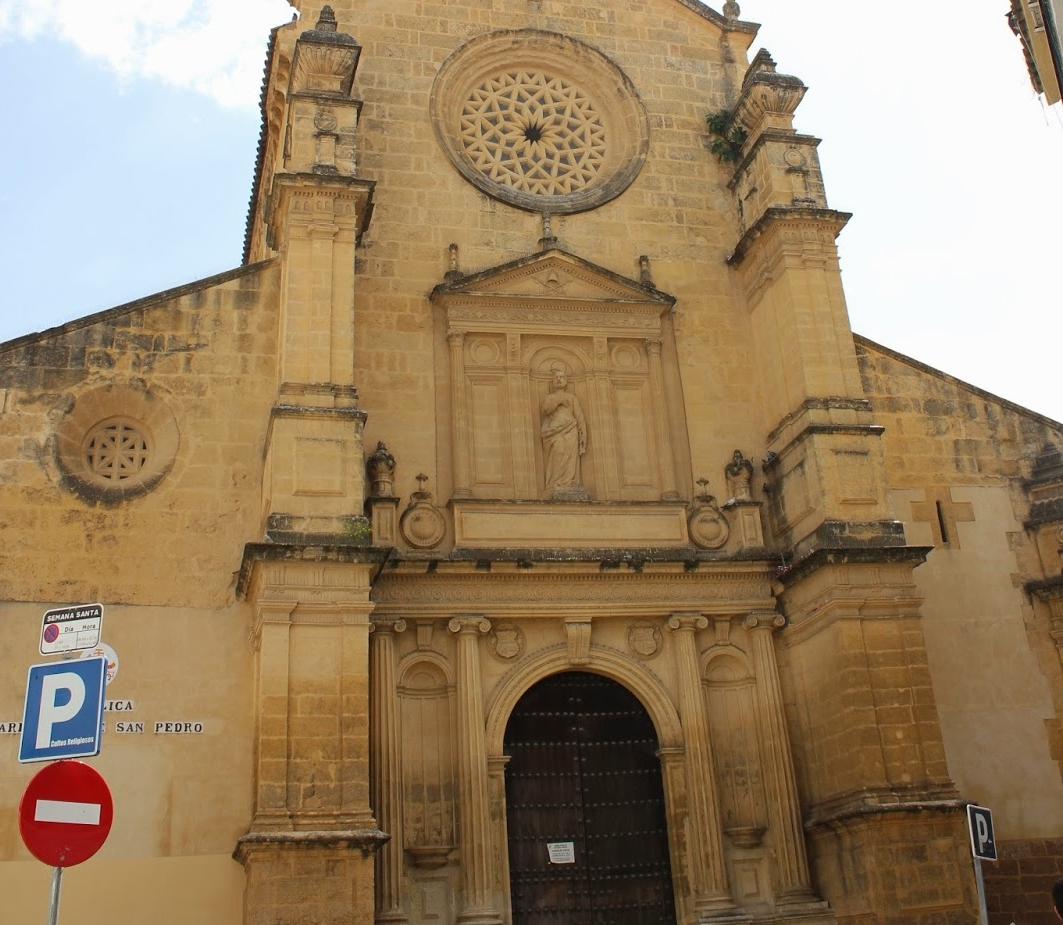arco-medio-punto: (482, 636, 691, 766)
fronton: (429, 243, 682, 313)
serliana: (459, 339, 663, 500)
